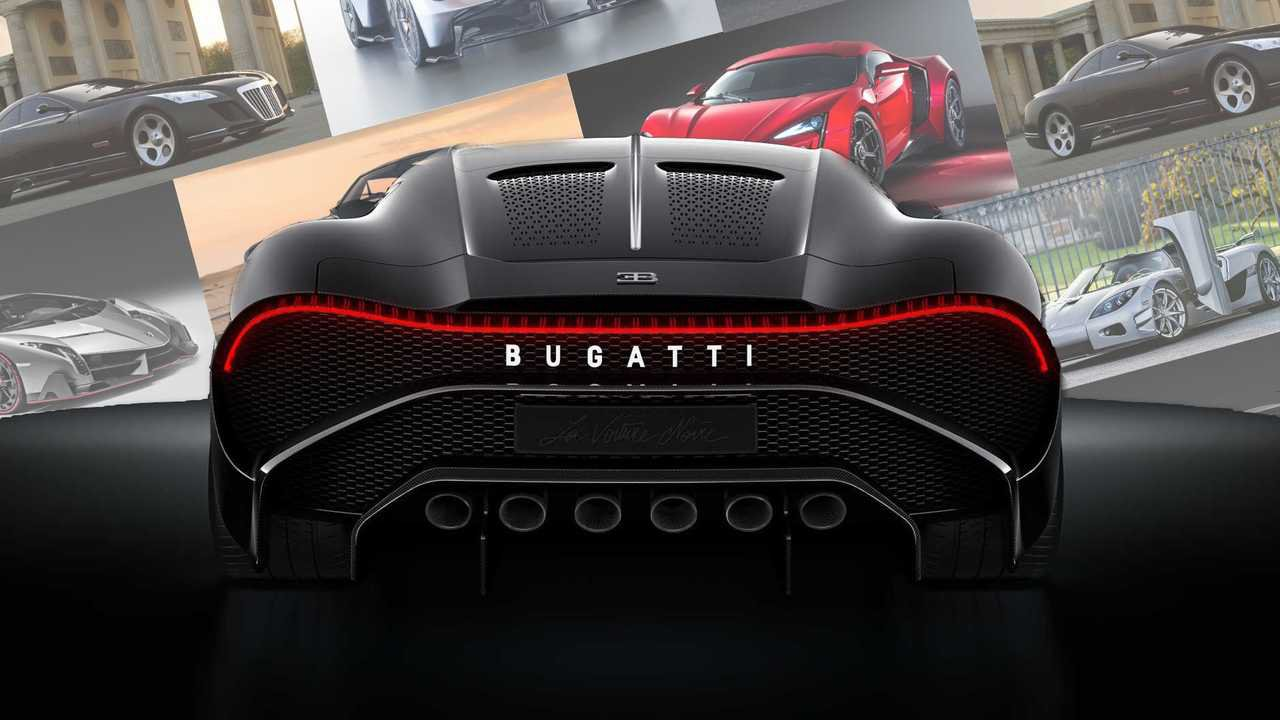car: (216, 130, 1067, 606), (647, 39, 963, 188), (1, 66, 284, 202), (1047, 216, 1279, 335), (1024, 21, 1275, 128), (0, 275, 200, 405)
